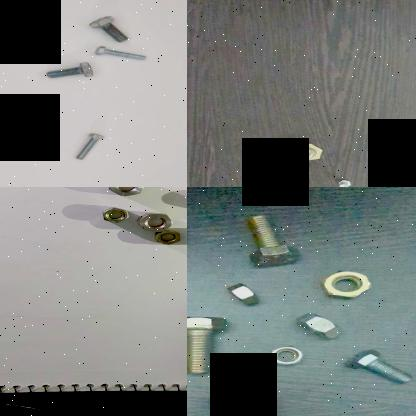Bolts: (224, 214, 298, 270), (187, 306, 228, 377), (346, 346, 414, 386), (208, 383, 272, 416), (84, 9, 128, 43), (40, 61, 98, 82), (91, 44, 149, 62), (72, 132, 106, 162), (290, 144, 328, 166), (335, 177, 356, 187), (404, 130, 416, 147)
NUTS: (316, 269, 374, 304), (294, 313, 346, 341), (218, 282, 266, 306), (268, 344, 309, 370), (131, 211, 176, 233), (98, 204, 130, 224), (151, 226, 181, 246), (100, 187, 146, 197)
